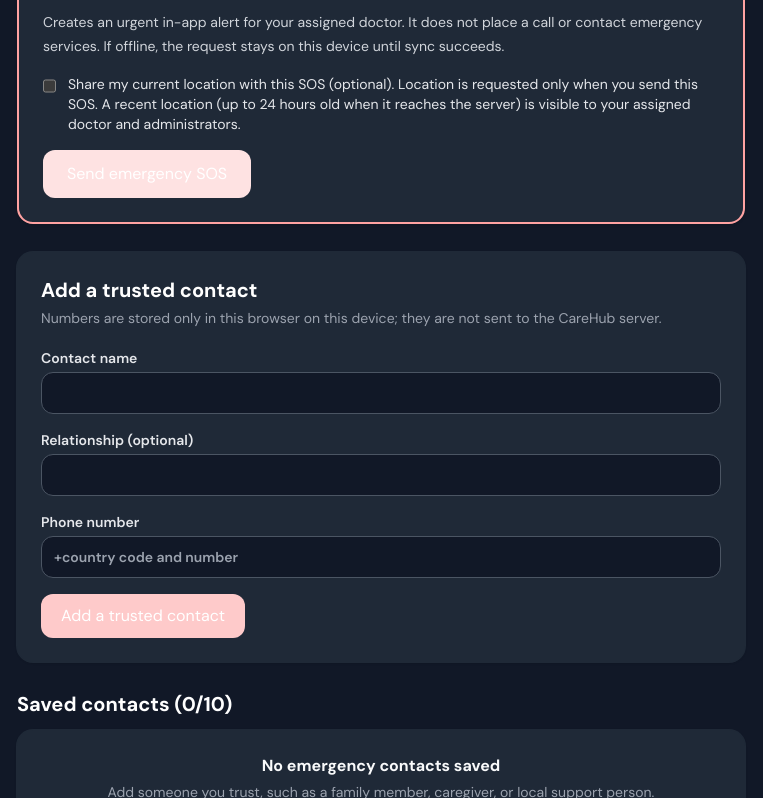
Test: EmergencyContacts › clears an active edit when all device contacts are reset
(page scrolled)
In the field labelled "Contact name": coordinates (381, 393) [41, 372, 721, 414], type "Caregiver"
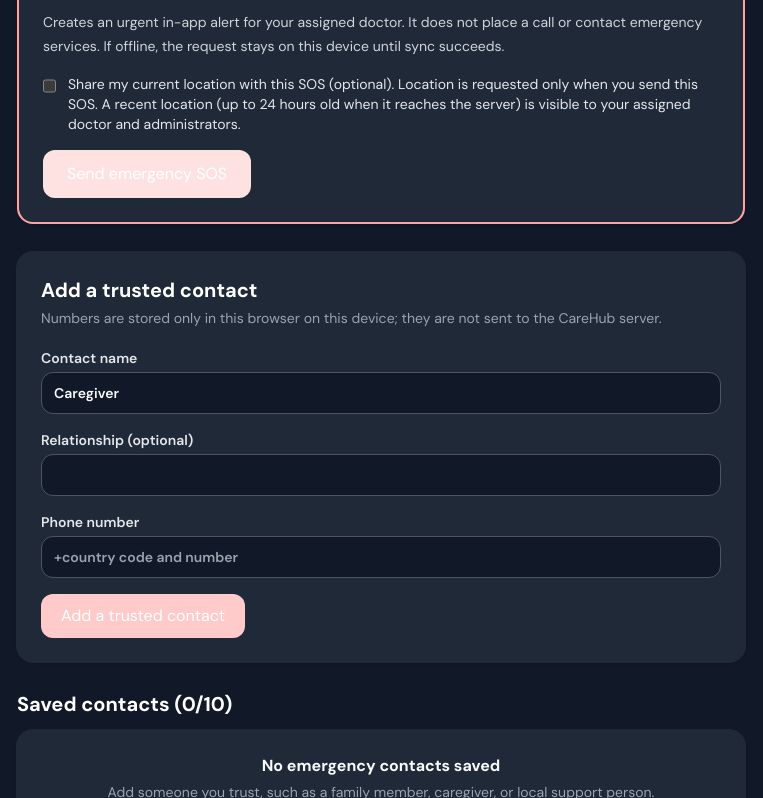
In the field labelled "Phone number": coordinates (381, 557) [41, 536, 721, 578], type "+14155550123"
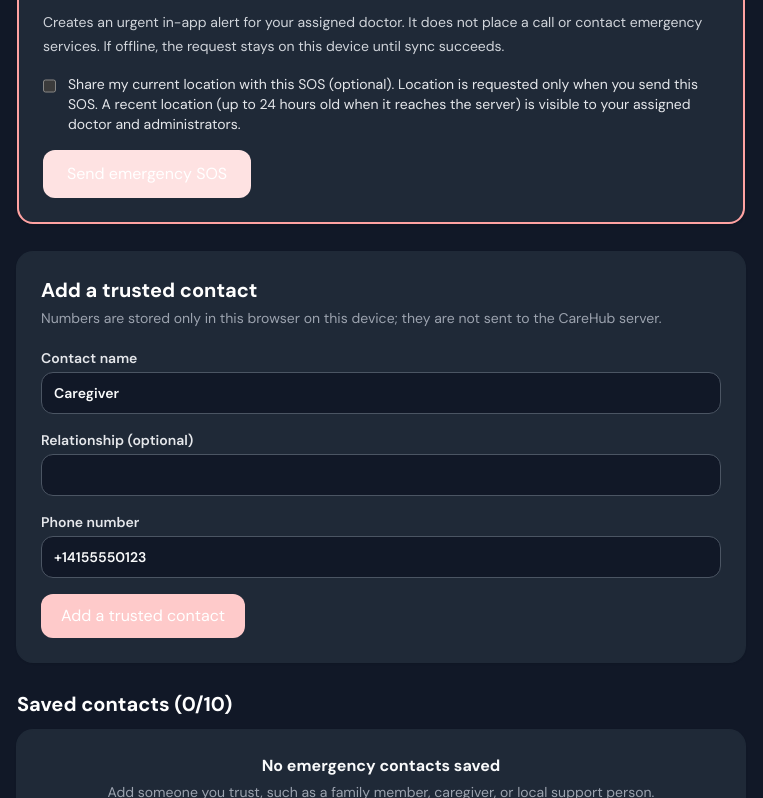
Click the button "Add a trusted contact": coordinates (143, 616) [41, 594, 245, 638]
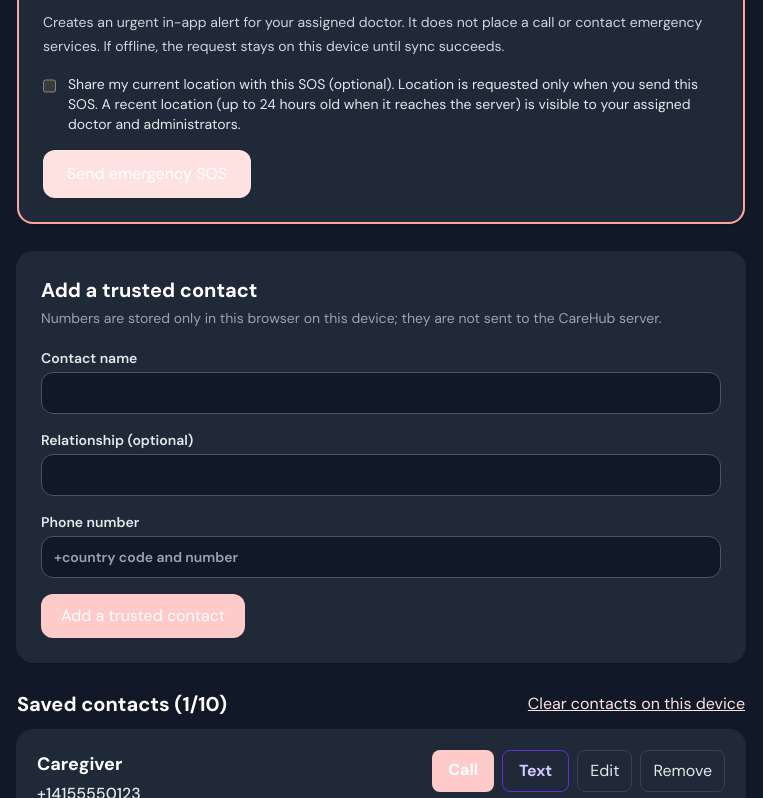
Click the button "Edit": coordinates (605, 771) [577, 750, 632, 792]
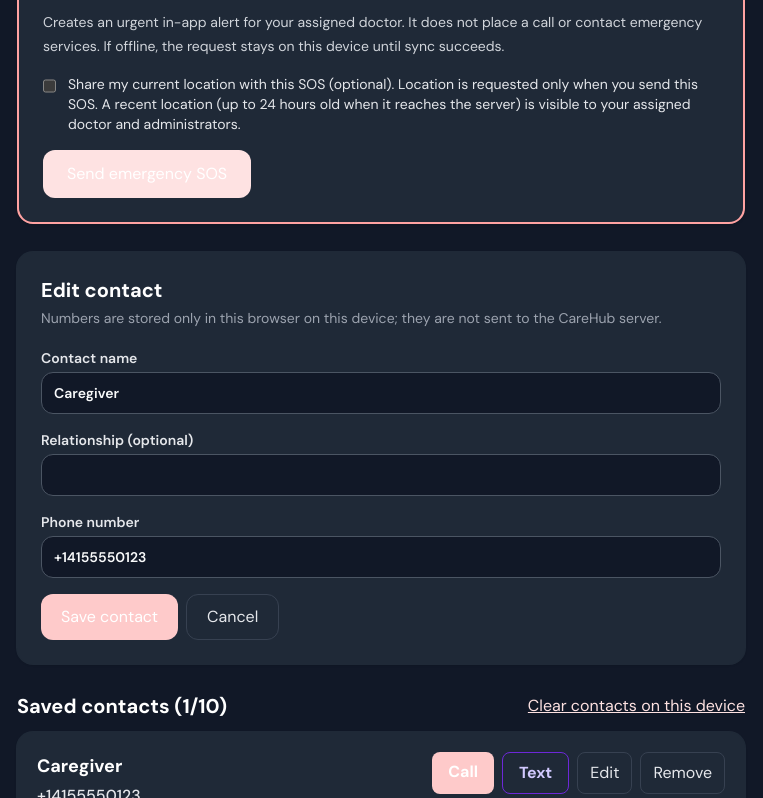
Click the button "Clear contacts on this device": coordinates (636, 706) [528, 694, 745, 718]
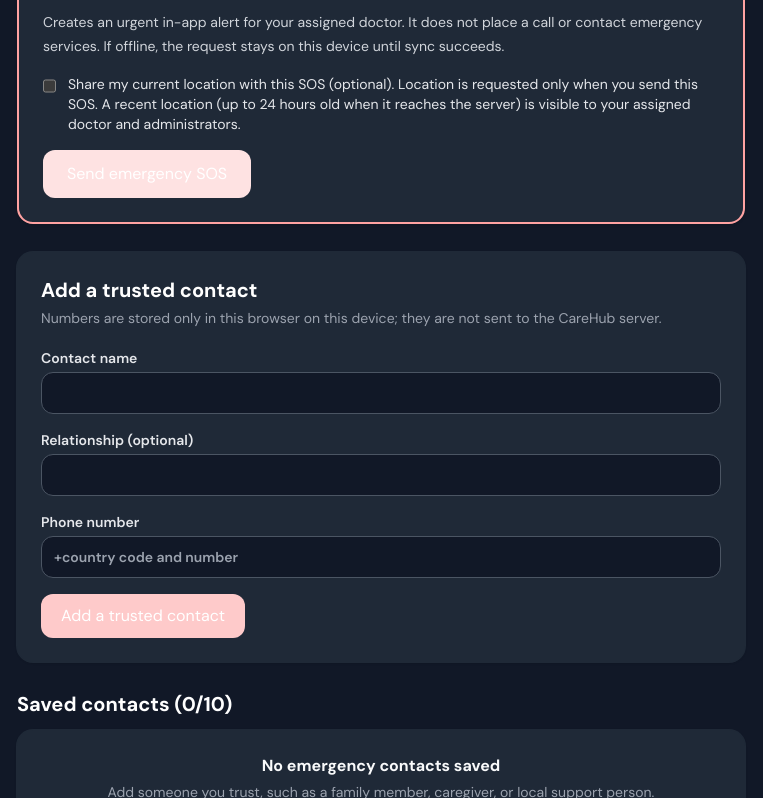
Expected: the heading "No emergency contacts saved" is shown, [262, 755, 500, 776]
Expected: the button "Add a trusted contact" is shown, [41, 594, 245, 638]
Expected: the field labelled "Contact name" is empty, [41, 372, 721, 414]
